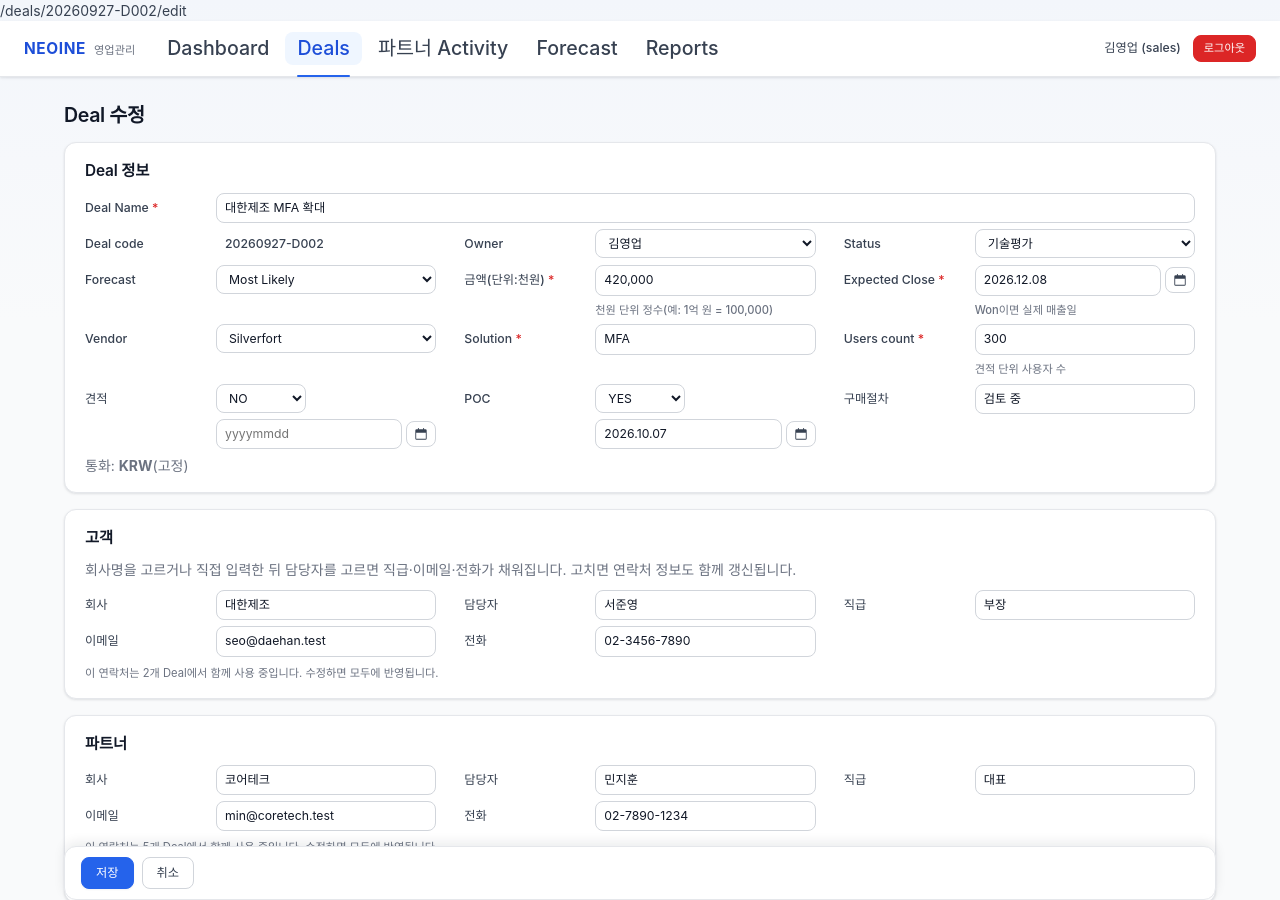
Test case: Status⇄Forecast 동기화 (T-SYNC-UI, 폼) › puts the confirmed revenue into the form fields
Expected: the heading "Deal 수정" is shown, [64,103,145,127]
Expected: the field labelled "Deal Name" is shown, [216,192,1195,223]
Select "Won" in the dropdown labelled "Forecast" at (326,280), box [216,265,436,294]
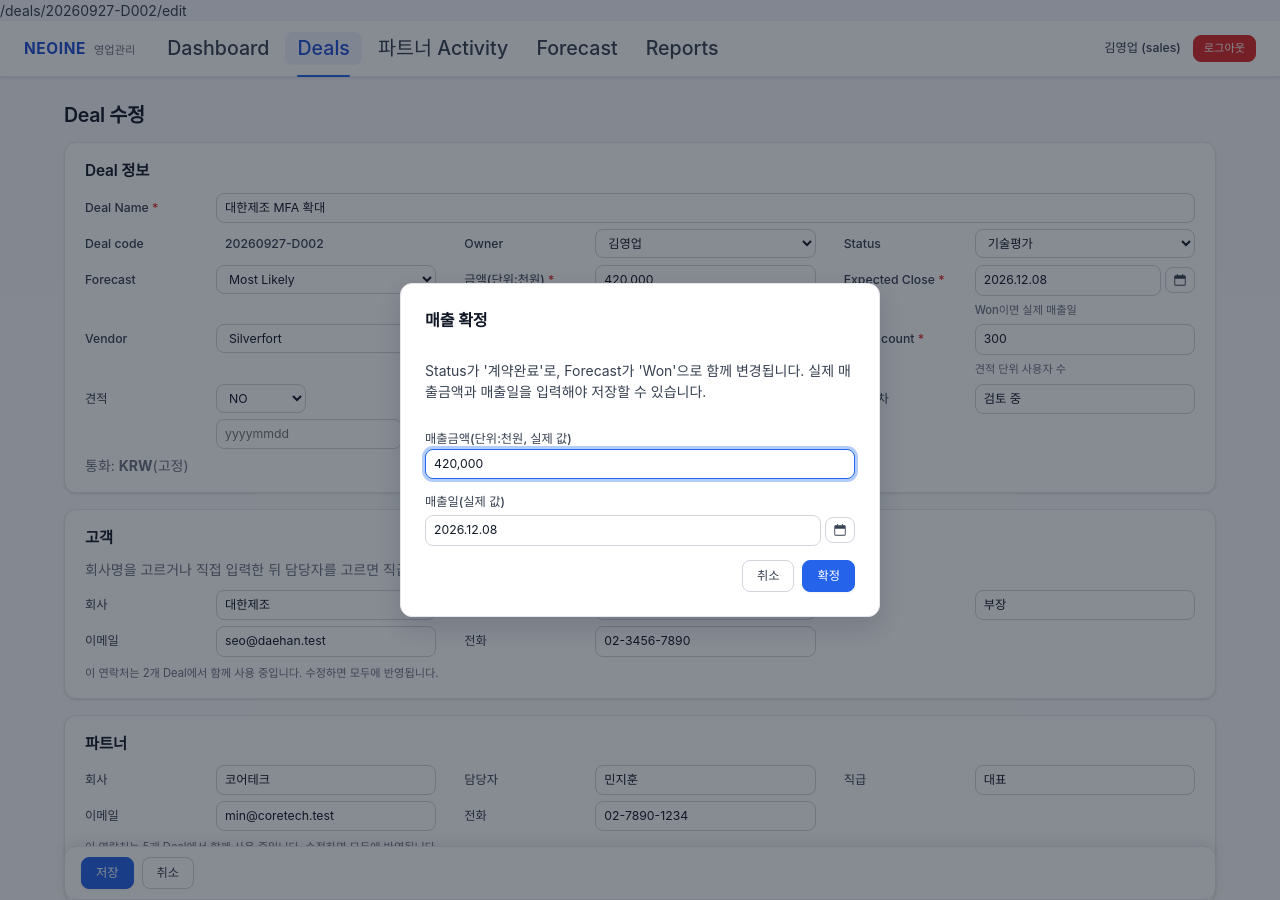
Clear the field labelled "매출금액(단위:천원, 실제 값)" at (640,464), box [425,448,855,479]
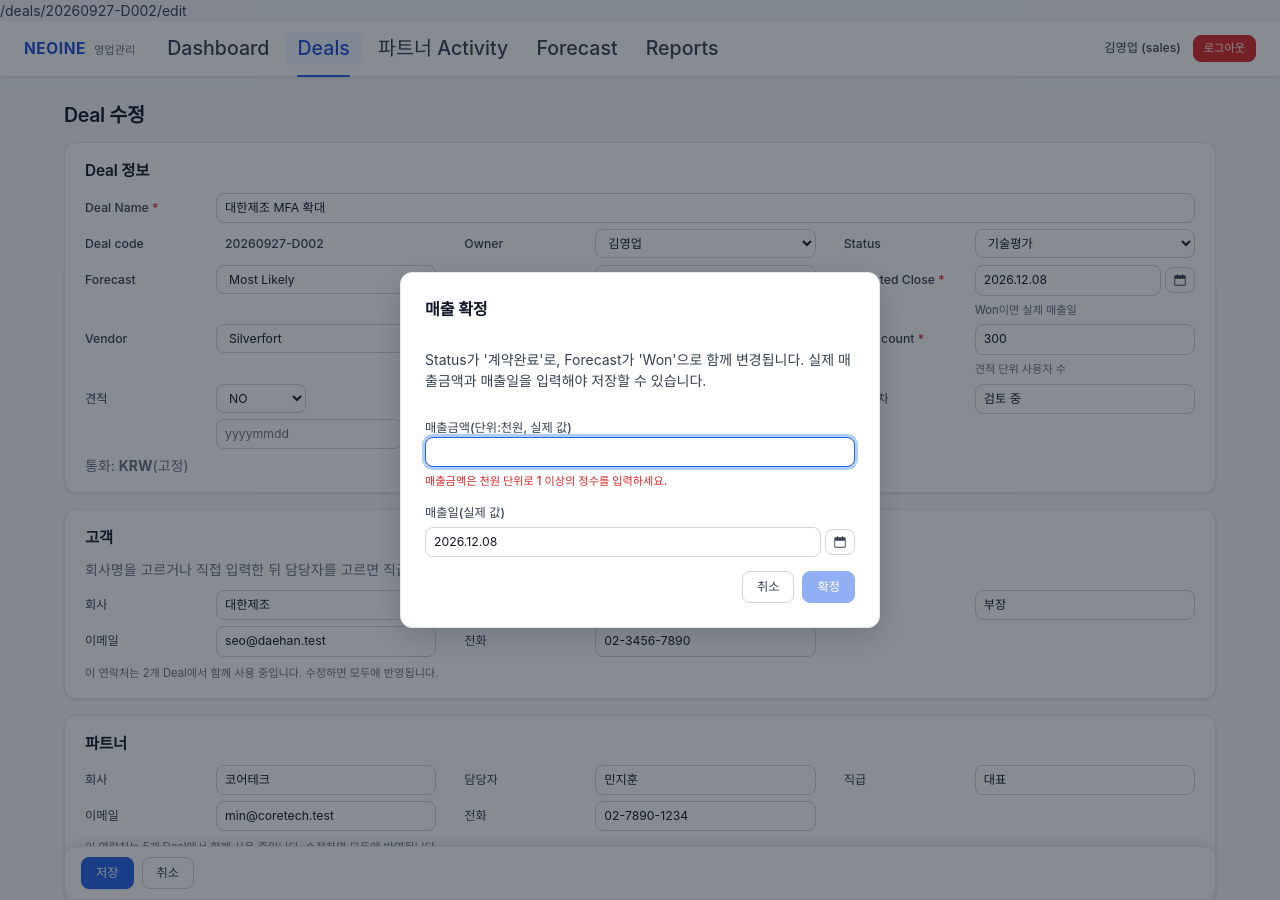
Type "400000" into the field labelled "매출금액(단위:천원, 실제 값)" at (640,452), box [425,437,855,468]
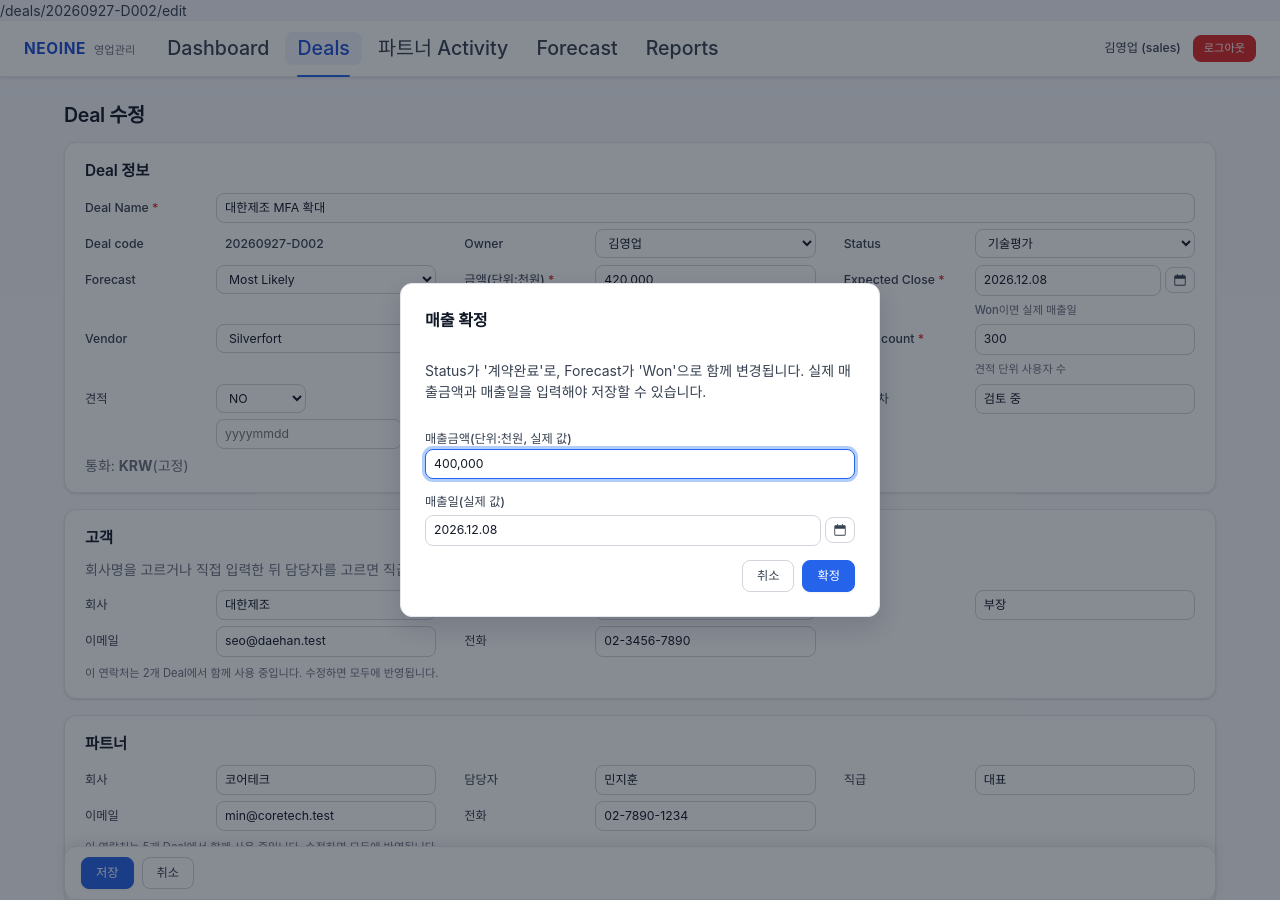
Replace the text in the field labelled "매출일(실제 값)" with "2026-12-01" at (623,530), box [425,515,821,546]
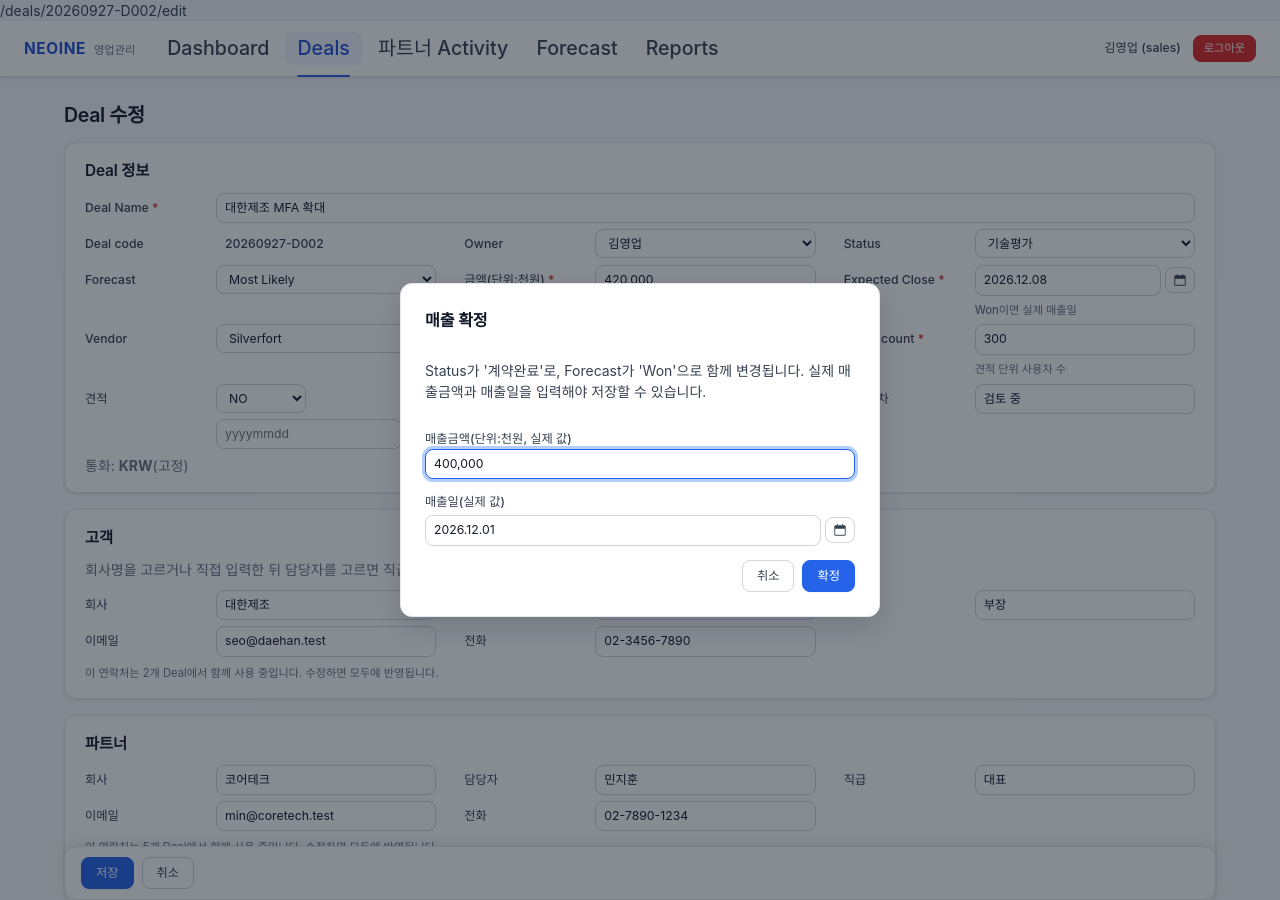
Click the button "확정" at (829,576), box [802,560,855,592]
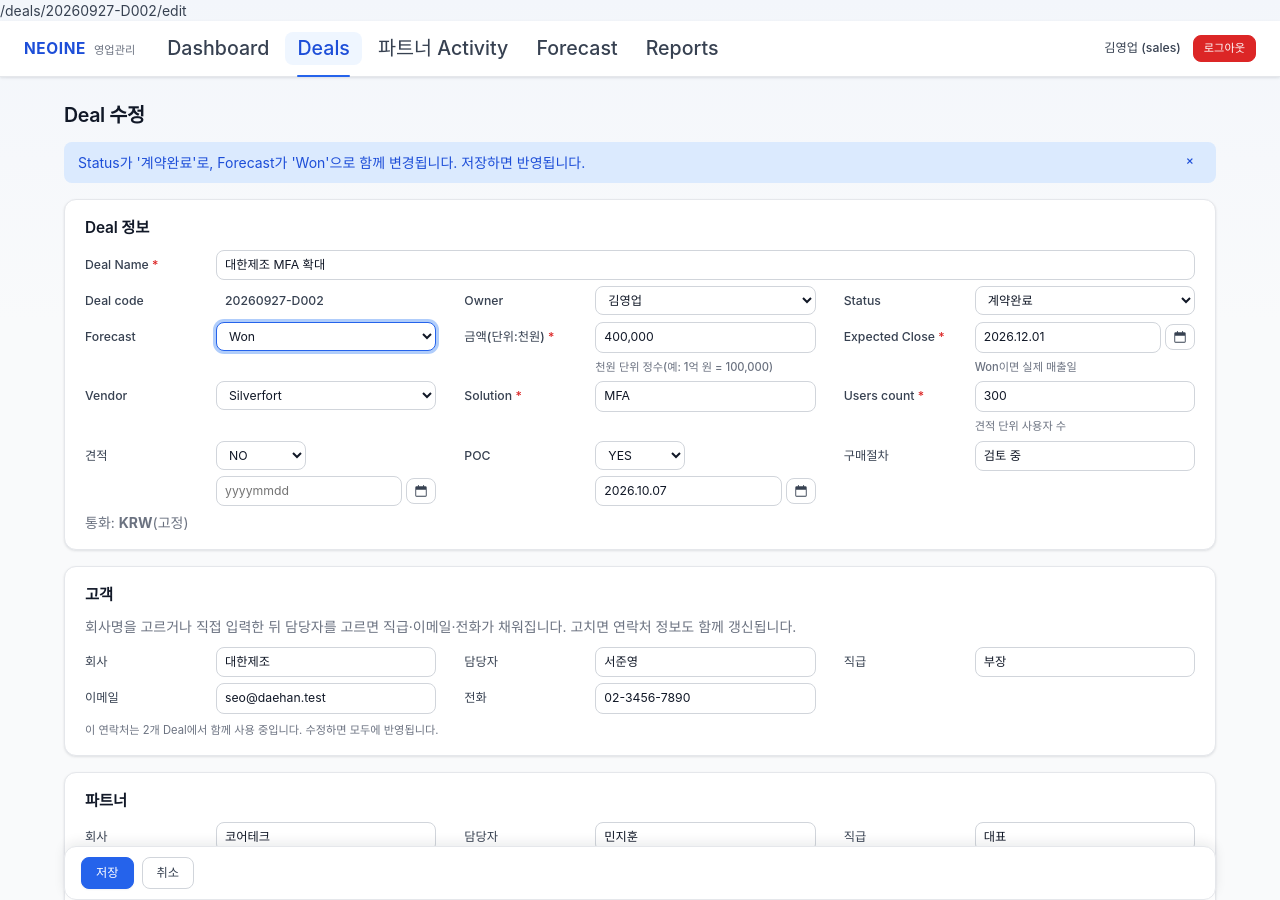
Expected: the field labelled "금액(단위:천원)" holds "400,000", [595,322,816,353]
Expected: the field labelled "Expected Close" holds "2026.12.01", [975,322,1161,353]
Expected: the dropdown labelled "Status" shows "계약완료", [975,286,1195,315]
